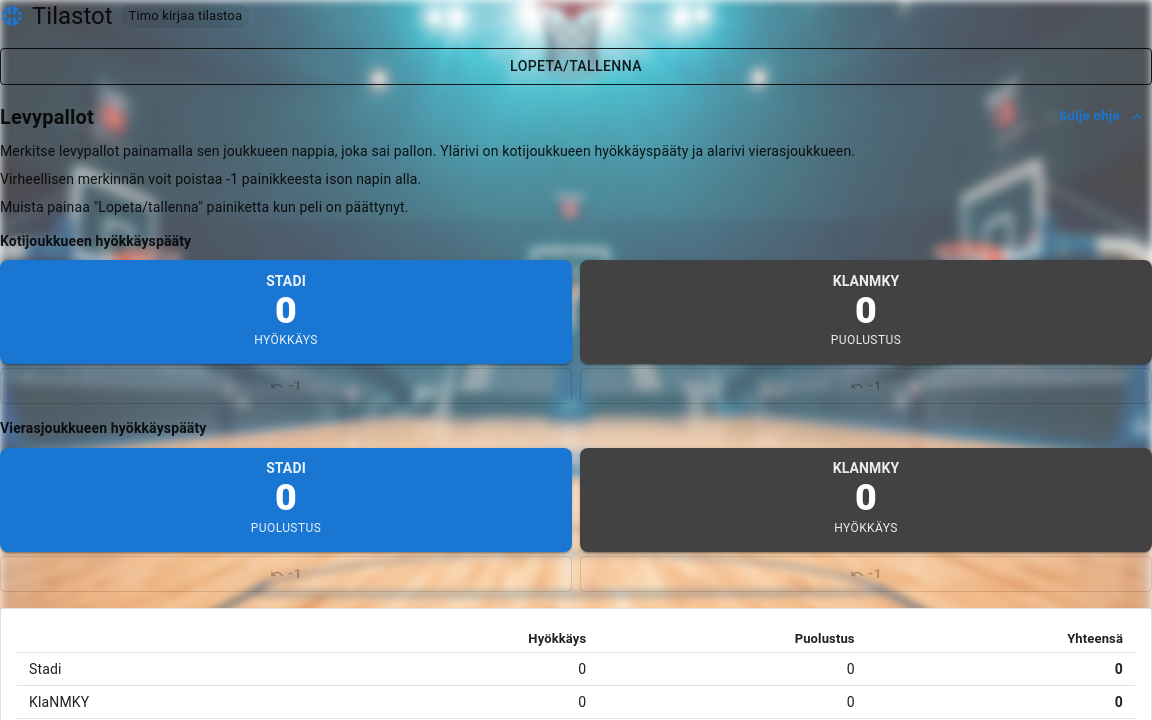
Test case: ReboundTracker › lets the levypallo instructions be collapsed
The width and height of the screenshot is (1152, 720).
Expected: the text "Ylärivi on kotijoukkueen hyökkäyspääty" is shown, x1=0 y1=142 x2=855 y2=158
Click the button with test id "rebound-help" at [1101, 116], box x1=1051 y1=100 x2=1151 y2=132
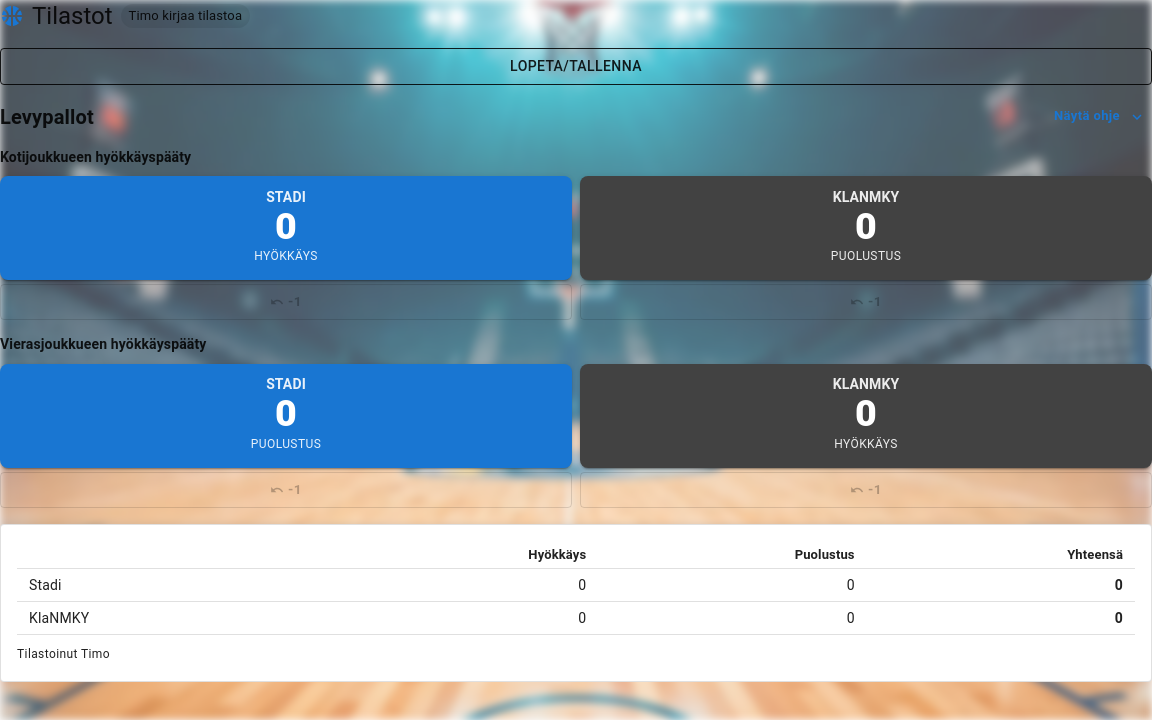
Expected: the text "Ylärivi on kotijoukkueen hyökkäyspääty" is gone
Expected: the button "Näytä ohje" is shown, x1=1046 y1=100 x2=1151 y2=132
Expected: the button "Sulje ohje" is gone
